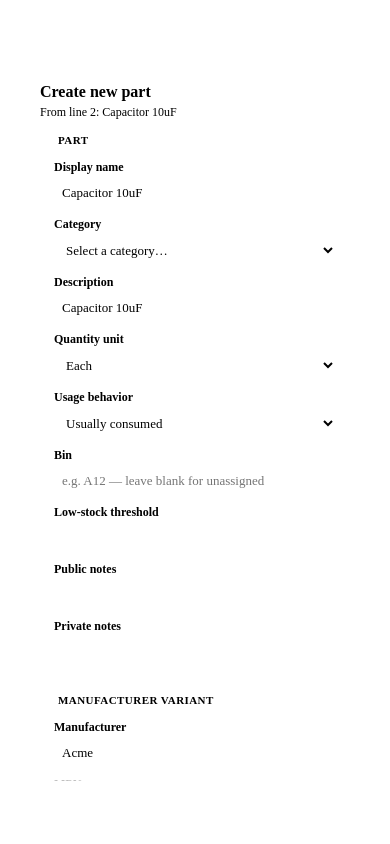
it: CreateFromLineDialog › Save is disabled until a category is chosen (the only required field beyond display name)
This screenshot has width=390, height=844.
Select "Capacitor" in the dropdown labelled "Category". click: (195, 251)
box: left=54, top=236, right=336, bottom=265
(page scrolled)
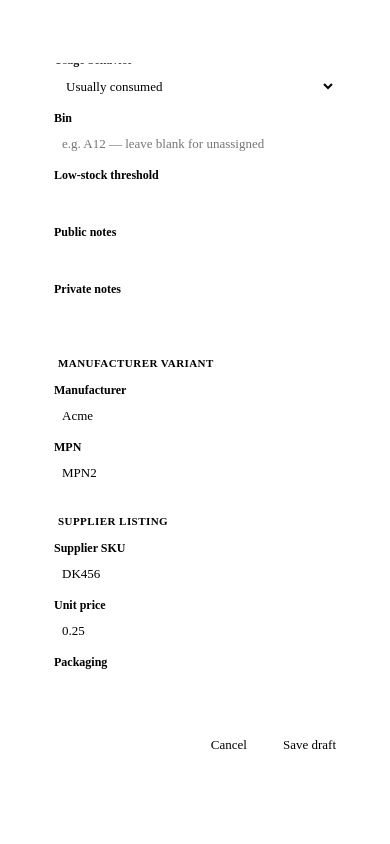
Check: the button "Save draft" is enabled, box left=269, top=730, right=350, bottom=760
